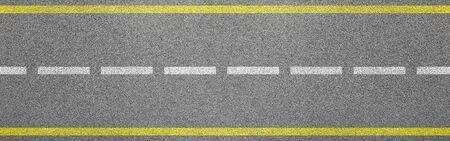LaneMark: (288, 62, 345, 79), (225, 63, 281, 79), (98, 64, 155, 79), (161, 64, 218, 79), (352, 63, 407, 78), (35, 64, 92, 77), (414, 63, 450, 76), (1, 64, 30, 77)
